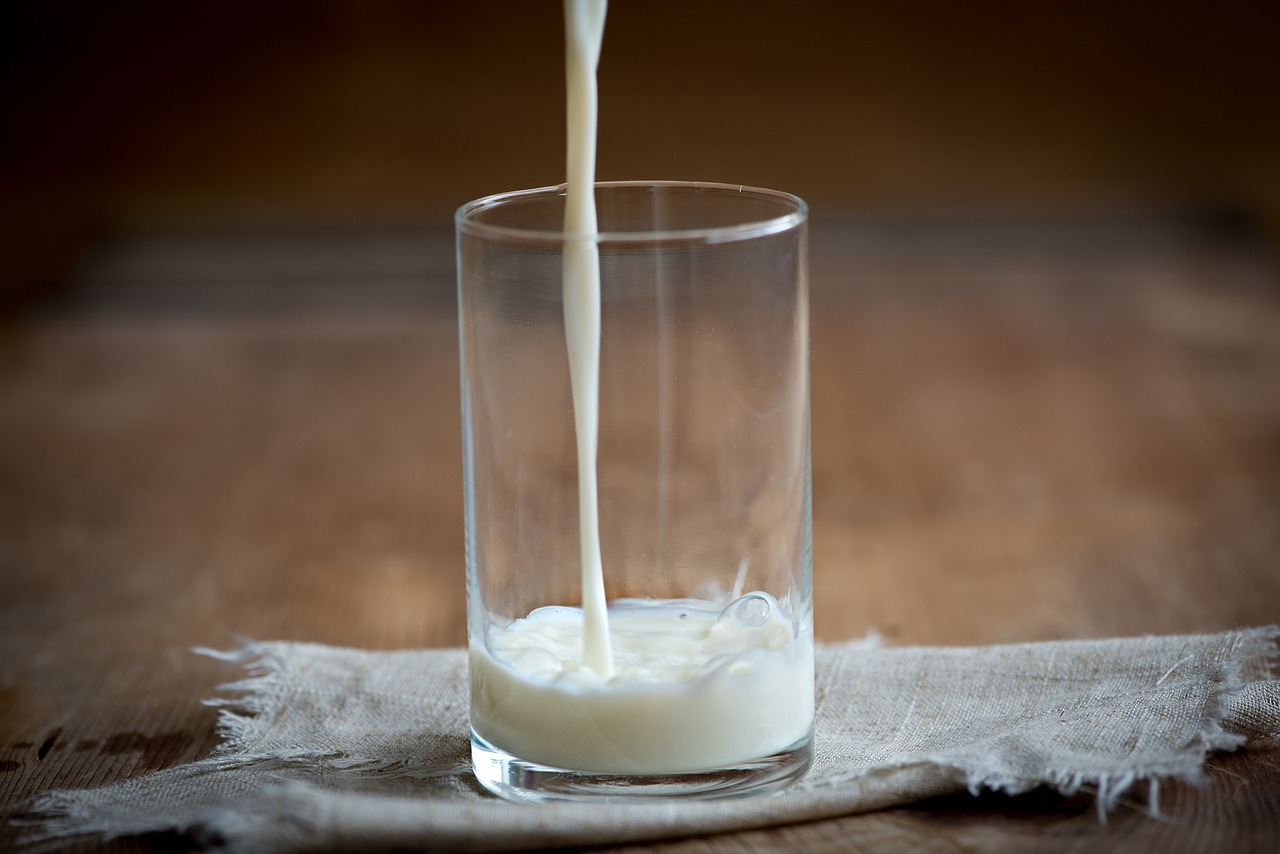glass of milk: (462, 236, 804, 778)
